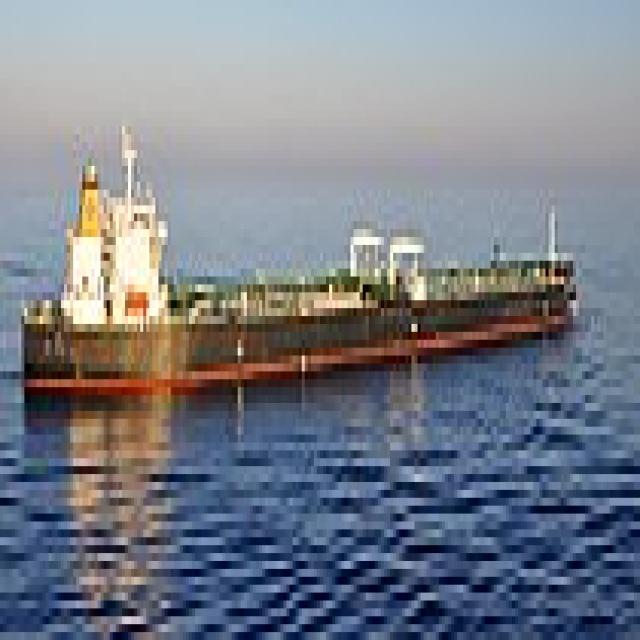Tanker: (15, 111, 582, 395)
